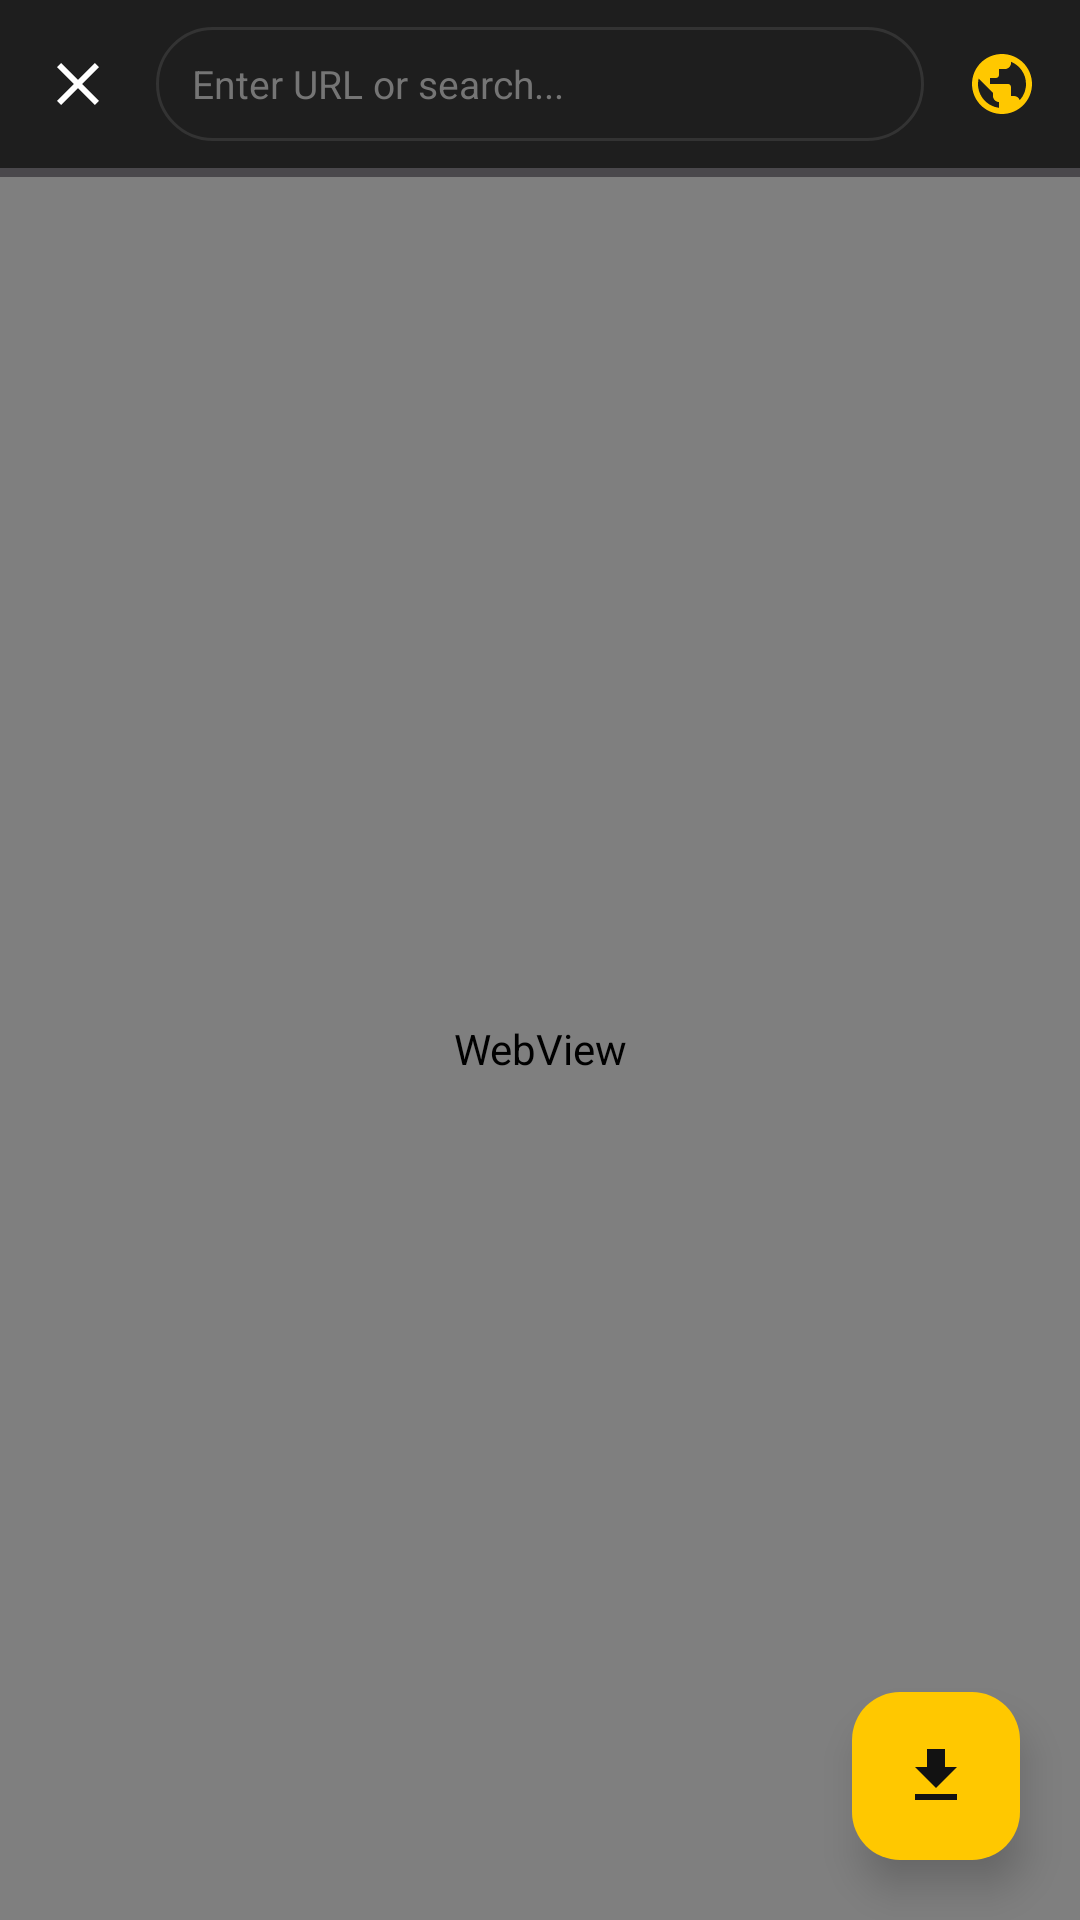

Point at icon controls on the screen. Image size 1080x1920, points as (x=x, y=y).
browser: (x=1002, y=84)
close: (x=78, y=84)
Download: (x=936, y=1776)
